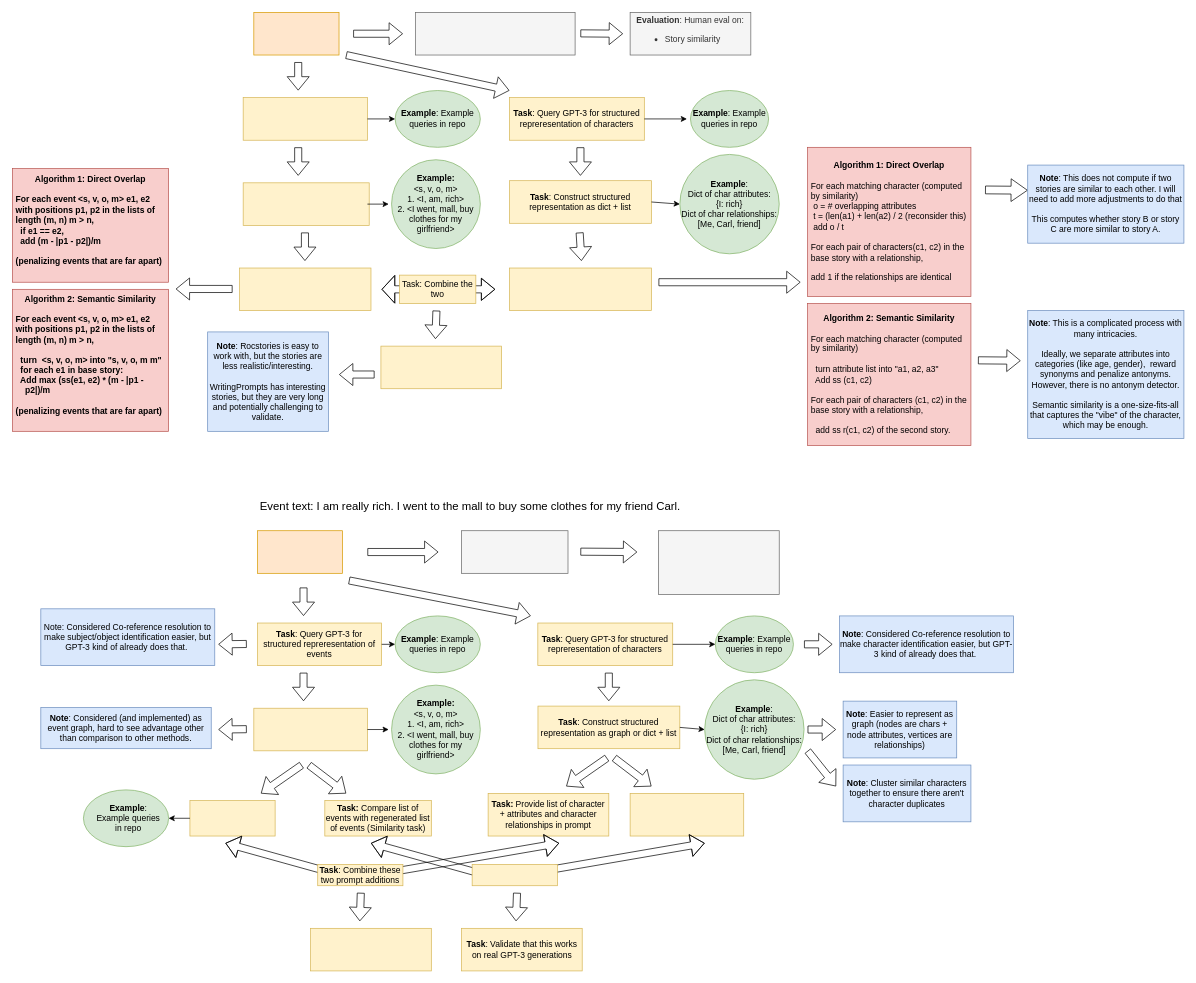
Image size: 1196x983. Some labels were removed from this diagram. The centre of each missing label's shape, as x and y in pixels:
"Evaluation : Human eval on: Style Performance Story similarity Interestingness" goes at (x=718, y=562).
"Goal 1: Story similarity" goes at (x=296, y=33).
"Goal 2: Style regeneration" goes at (x=300, y=551).
"Naive Baseline: Query ChatGPT SentenceBERT semantic similarity" goes at (x=495, y=33).
"Naive Baseline: Query ChatGPT to regenerate" goes at (x=514, y=551).
"Task : Combine these two similarity tasks" goes at (x=514, y=875).
"Task : Construct structured representation as a list" goes at (x=310, y=729).
"Task : Construct their structured representations as lists of events" goes at (x=305, y=203).
"Task : Query GPT-3 for structured repreresentation of events for both stories" goes at (x=304, y=118).
"Task : Validate that this creates better GPT-3 generations" goes at (x=370, y=949).
"Task : Validate that this works on naive examples of WritingPrompts/ ROCStories" goes at (x=441, y=367).
"Task: Compare list of chars with regenerated list of events (Similarity task)" goes at (x=686, y=814).
"Task: Compute the weighted similarity of the two character representations." goes at (x=580, y=289).
"Task: Compute the weighted similarity of the two lists of events." goes at (x=305, y=289).
"Task: Provide list of events in prompt" goes at (x=232, y=818).
